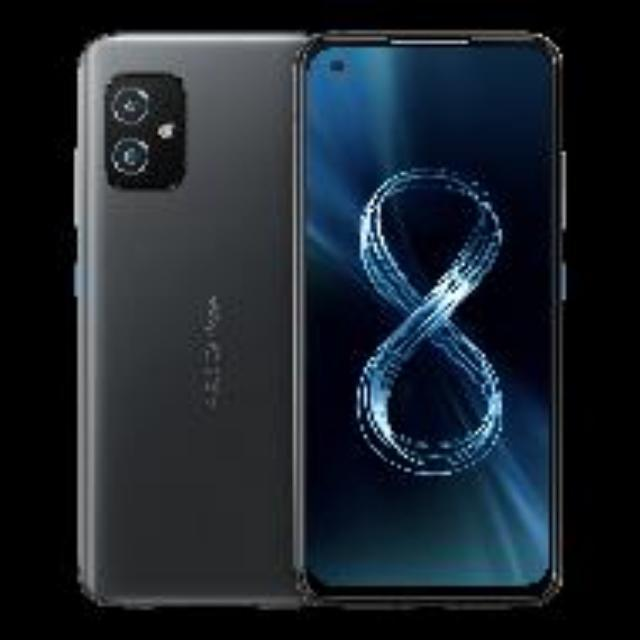PhoneUse: (296, 28, 566, 606), (71, 29, 293, 611)
